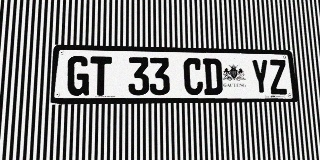3: (128, 57, 149, 95), (149, 57, 170, 95)
C: (183, 58, 203, 95)
D: (203, 58, 223, 95)
G: (66, 56, 90, 96)
T: (90, 56, 112, 96)
Y: (250, 59, 270, 95)
Z: (268, 59, 288, 95)
